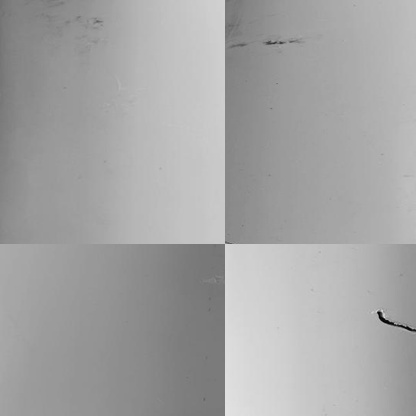fengxi: (371, 306, 414, 334)
